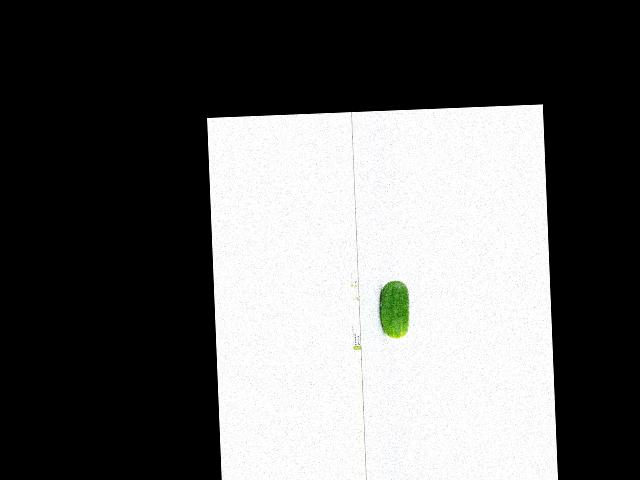cucumber: (378, 279, 409, 338)
